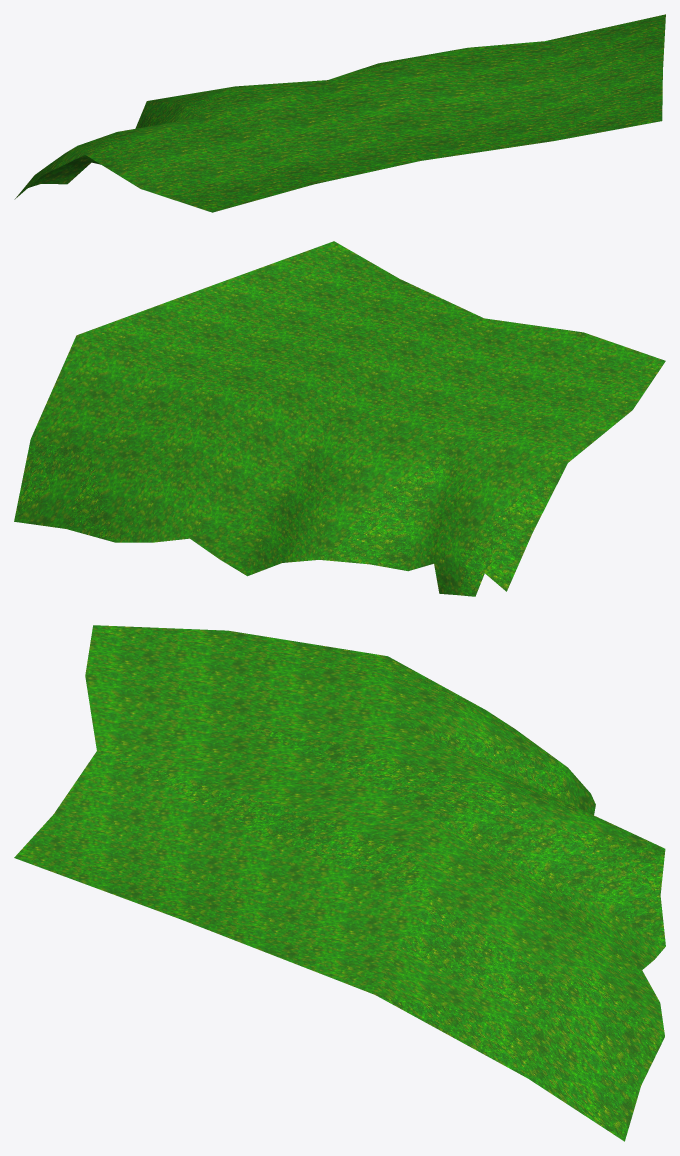
Rendered from HTOWN01_PS30.fbx.
The picture shows the model from 3 angles, top to bottom: view 1: azimuth 30°, elevation 25°; view 2: azimuth 150°, elevation 25°; view 3: azimuth 270°, elevation 25°; orthographic projection. The views are drawn at different scales.
Visible parts, largest first — view 1: HTOWN01_PS30; view 2: HTOWN01_PS30; view 3: HTOWN01_PS30.
Part boxes in pixels (bbox=[...]): HTOWN01_PS30: bbox=[14, 14, 665, 212]; HTOWN01_PS30: bbox=[14, 241, 665, 596]; HTOWN01_PS30: bbox=[14, 625, 665, 1141].
Size of the model in its own units: 222358 by 62649 by 175311.
Materials: 2 (2 with a texture image).
